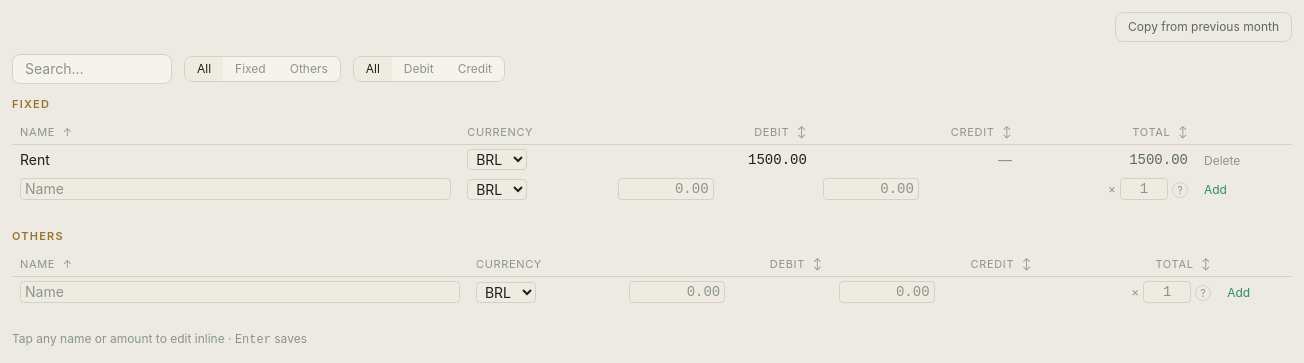
Test: ExpenseList › shows delete confirmation when delete button is clicked
Click the button with aria-label "delete rent": x=1222, y=161 [1204,153,1240,169]
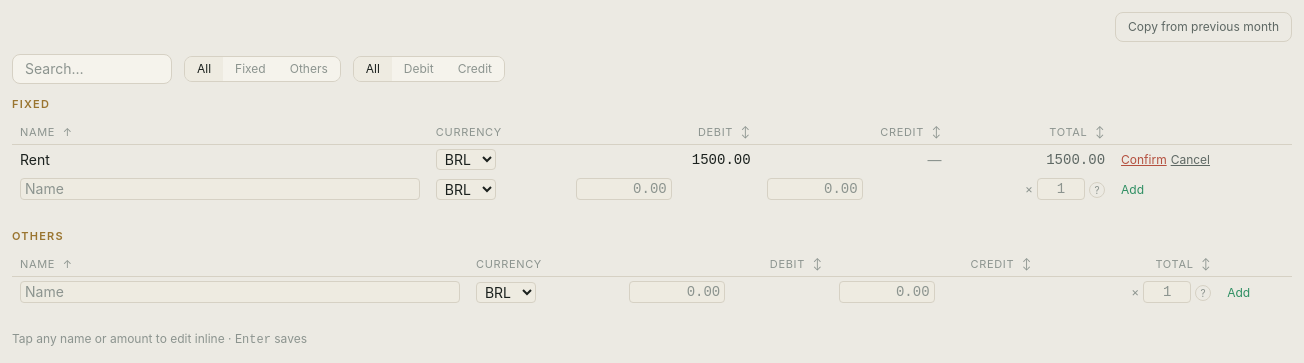
Now the button "Confirm" is shown, box [1121,152,1167,168]
Now the button "Cancel" is shown, box [1171,152,1210,168]
